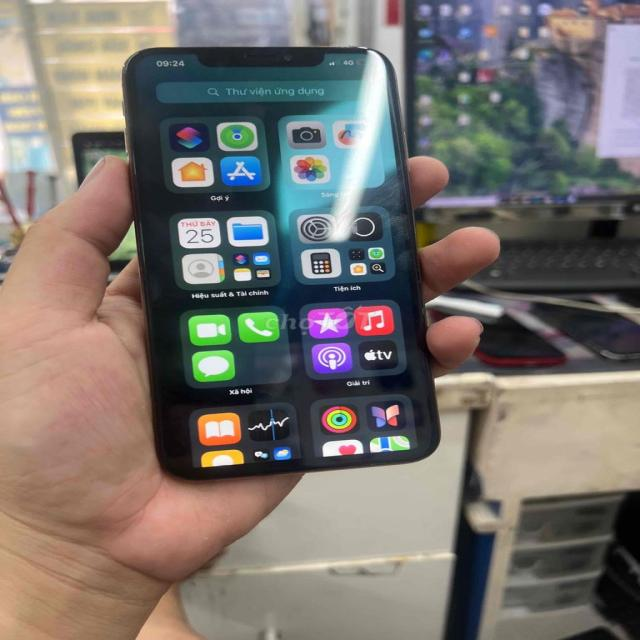gen_x_xs: (110, 41, 451, 482)
